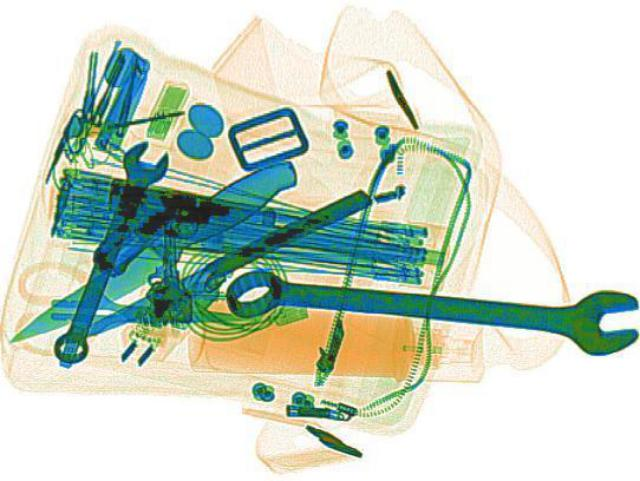Gun: (82, 178, 278, 291)
Knife: (1, 150, 310, 349), (49, 186, 375, 349), (46, 285, 232, 335)
Wrench: (221, 255, 635, 356), (40, 137, 174, 364)
